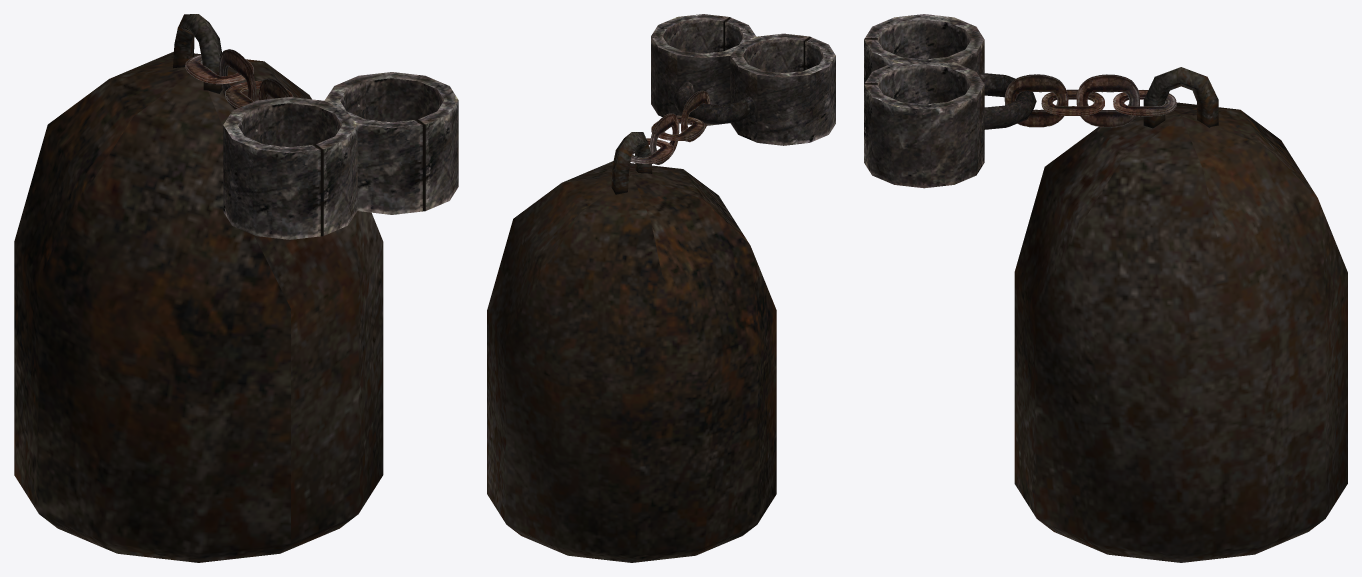
The model's file is strappado_shackles_weight.dae.
3 renders of one model, left to right at view 1: azimuth 30°, elevation 25°; view 2: azimuth 150°, elevation 25°; view 3: azimuth 270°, elevation 25°, orthographic. The views are drawn at different scales.
Visible parts, largest first — view 1: control_room_chain_weight, polySurface1, lchain1; view 2: control_room_chain_weight, polySurface1, lchain1; view 3: control_room_chain_weight, polySurface1, lchain1.
Part boxes in pixels (x1,y1,x2,y2): control_room_chain_weight: [14, 14, 383, 562]; polySurface1: [223, 72, 458, 239]; lchain1: [185, 49, 293, 109]; control_room_chain_weight: [487, 132, 776, 562]; polySurface1: [651, 14, 835, 145]; lchain1: [630, 90, 710, 164]; control_room_chain_weight: [1014, 67, 1347, 562]; polySurface1: [864, 14, 1036, 188]; lchain1: [1004, 74, 1176, 127].
Bounding box in the file's own units: 0.5859 × 0.8509 × 0.8503.
